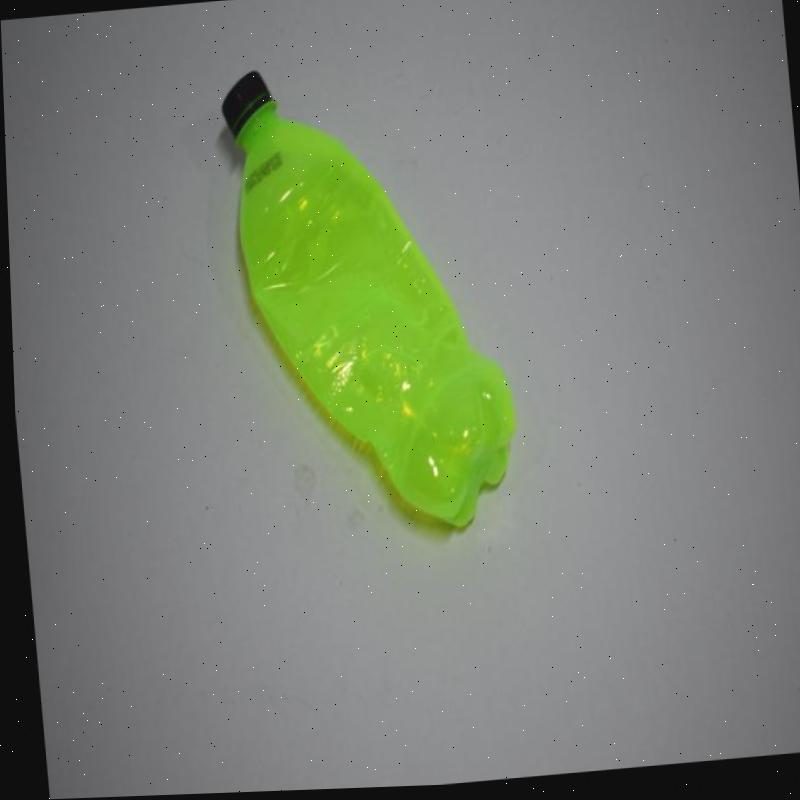botella: (216, 51, 524, 553)
